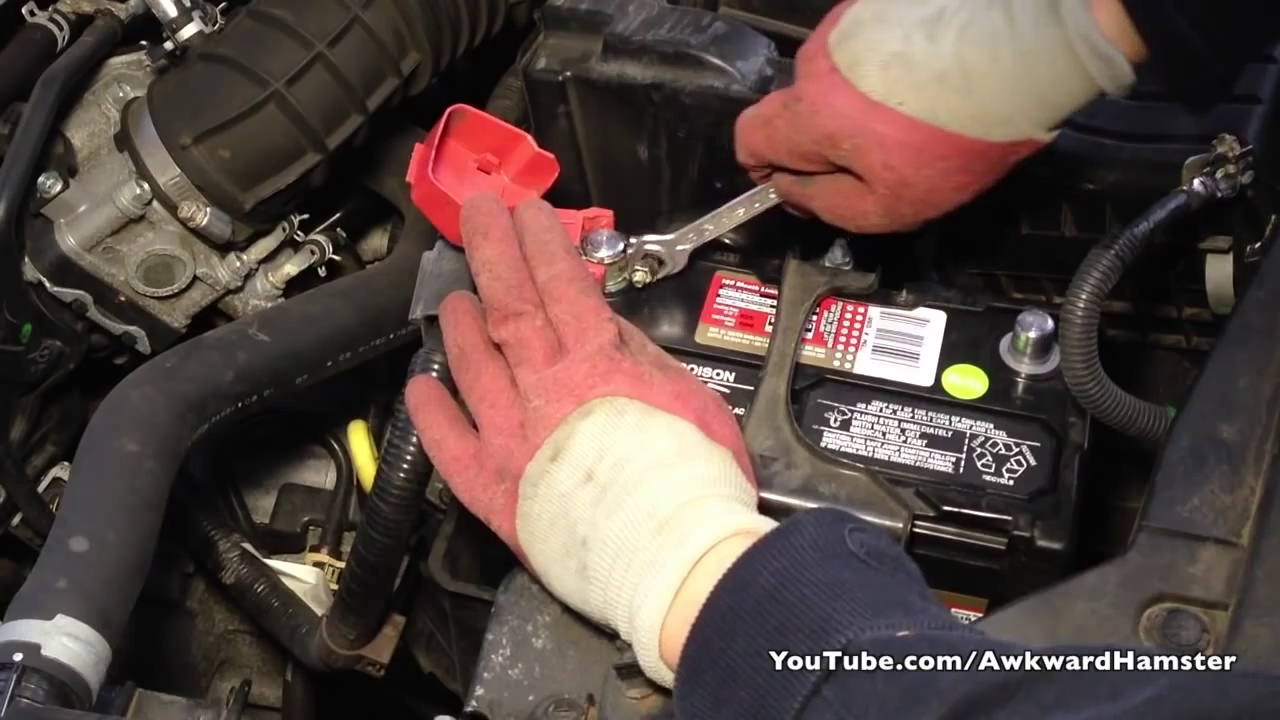battery: (487, 211, 1086, 559)
neg_disconnected: (966, 295, 1082, 379)
pos_connected: (426, 114, 637, 304)
pos_touched: (471, 141, 646, 371)
